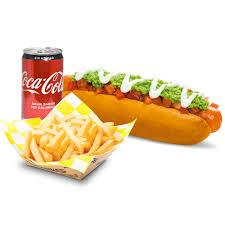Completos: (63, 58, 220, 144)
